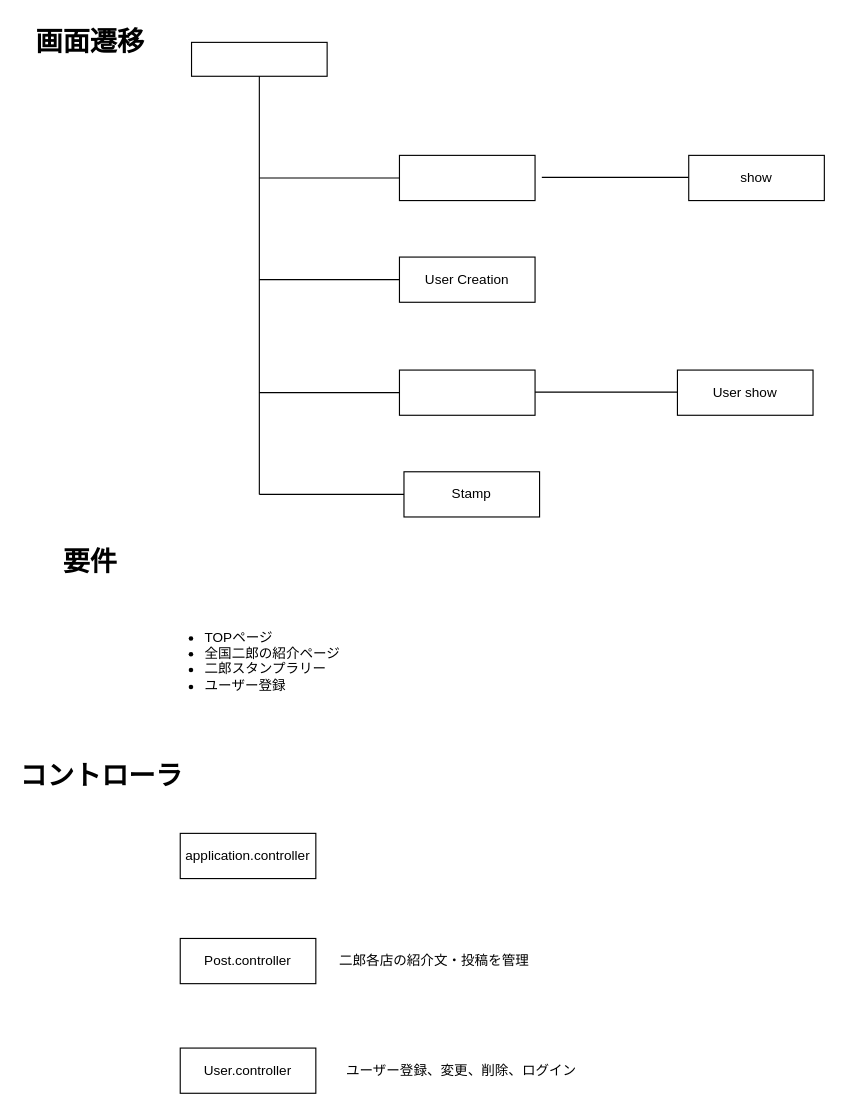
Image size: 844x1113. Some labels were removed from this diagram. Each missing label, with the box of its shape:
Index: (398, 154, 535, 201)
Login: (398, 369, 535, 415)
TOP: (190, 41, 327, 76)
